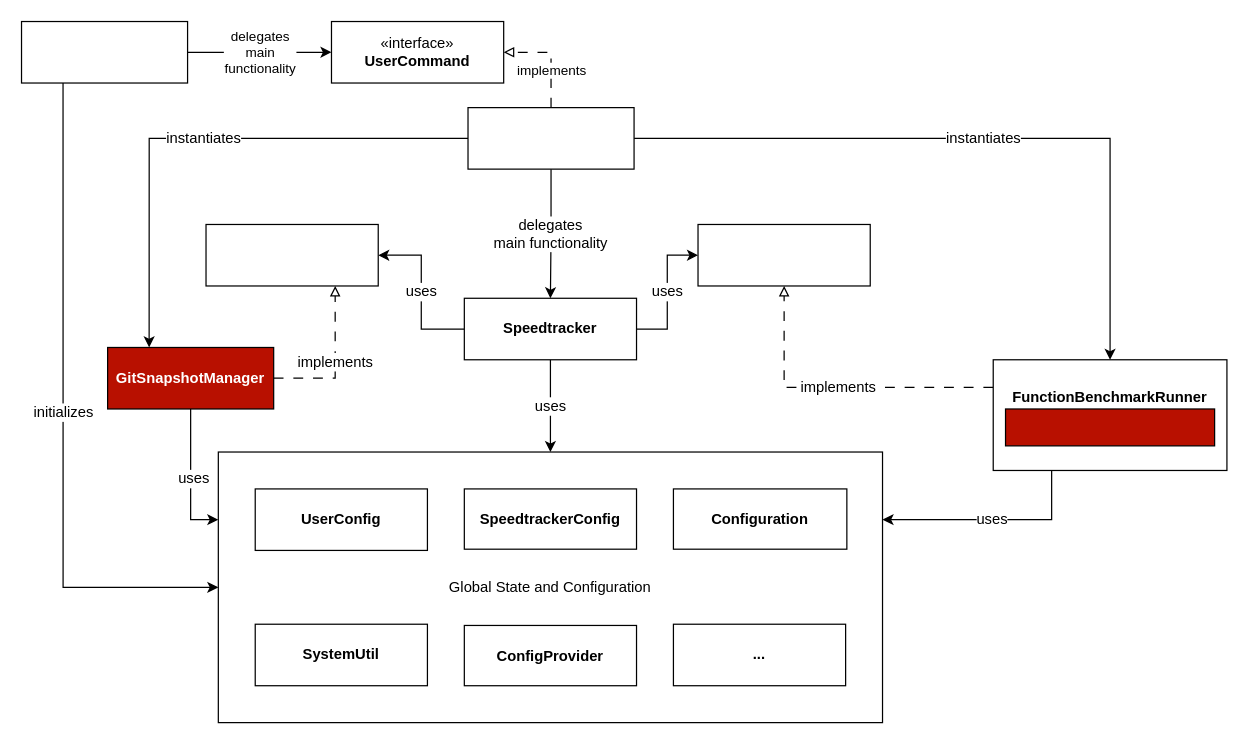
This 1248x744 diagram has some shape labels left out. Here are the shapes that lost their labels. From the top down, the centre of each, then its label:
the point at 104,51: speedtracker.m
the point at 550,137: RunCommand
the point at 291,254: «interface» SnapshotLoader
the point at 783,254: «interface» BenchmarkRunner
the point at 1109,427: + compareFunction(sol1, sol2)
